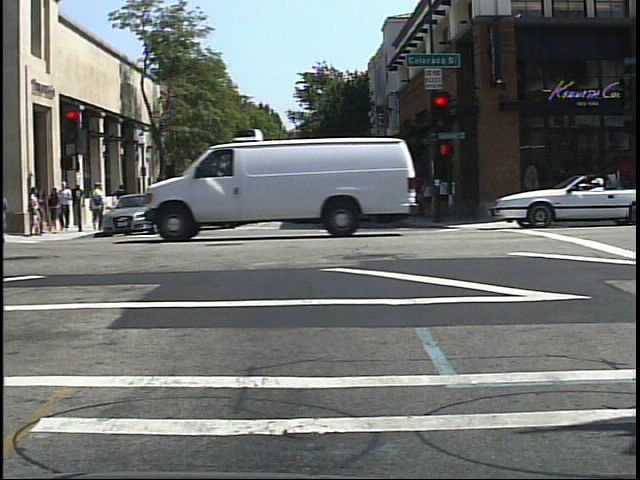person: (86, 180, 106, 231)
